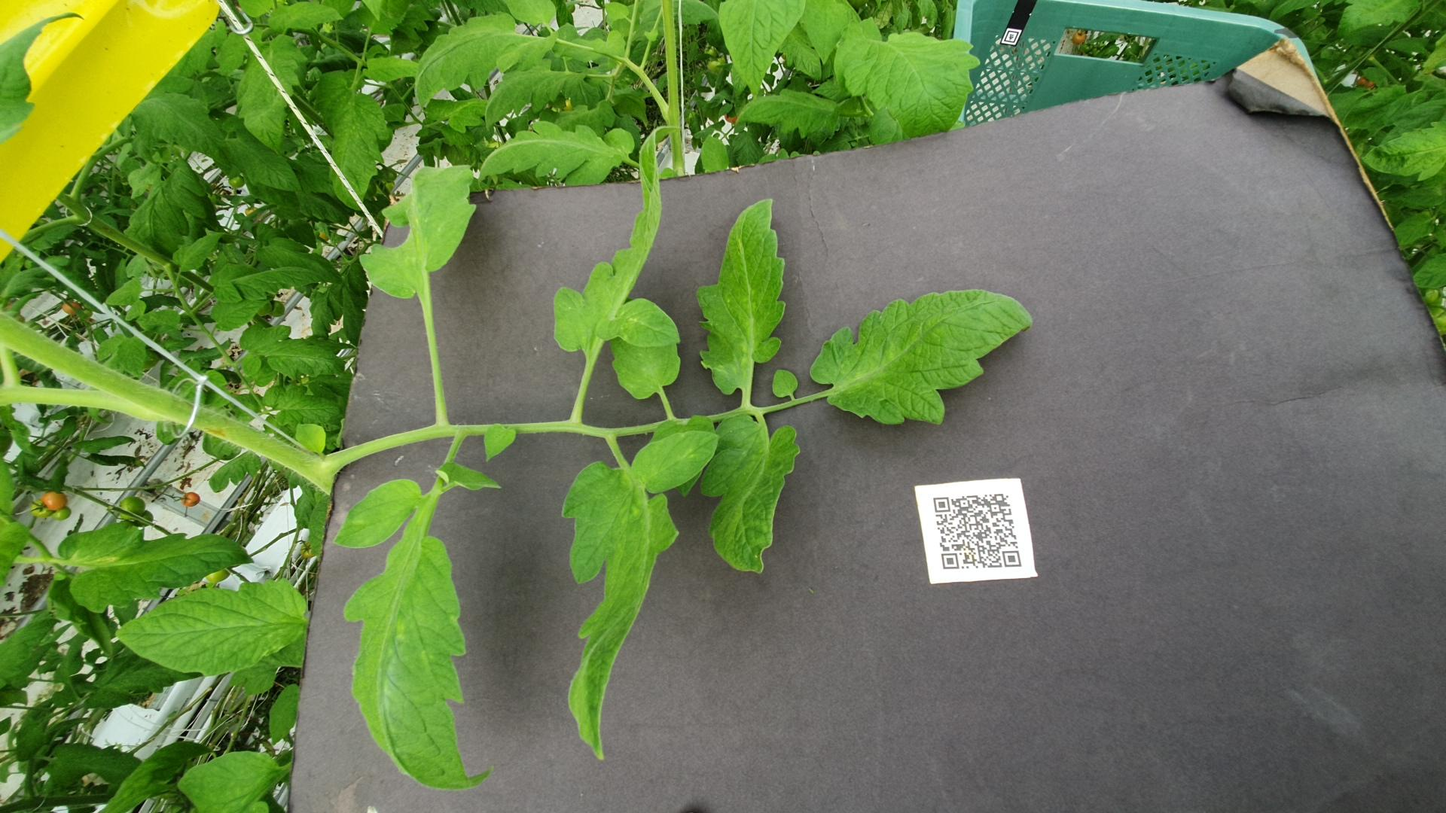Healthy: (88, 313, 687, 406), (39, 184, 596, 278), (819, 308, 1240, 384), (690, 454, 936, 581), (743, 390, 1097, 442), (909, 201, 1168, 269), (420, 393, 711, 450), (1201, 474, 1395, 552), (1103, 267, 1232, 358), (1243, 232, 1428, 292), (1067, 176, 1312, 218), (1267, 403, 1446, 455), (1140, 72, 1285, 131), (767, 134, 871, 195), (1185, 412, 1289, 473), (1101, 122, 1226, 169), (903, 117, 980, 183), (683, 147, 762, 192), (1385, 150, 1446, 196), (118, 151, 229, 170), (969, 96, 1037, 127), (860, 116, 914, 152), (1301, 201, 1348, 236)
